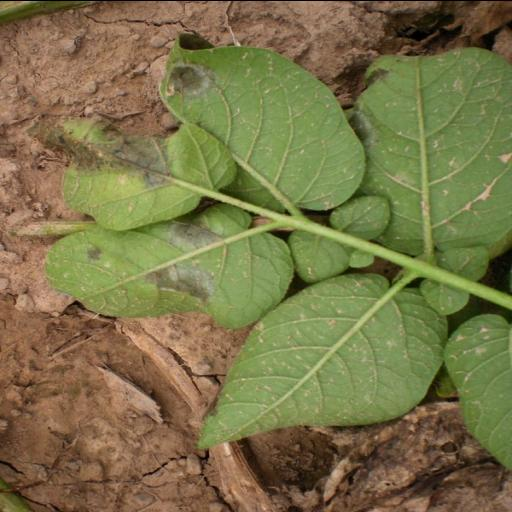disease_tomato: (154, 30, 372, 220), (41, 202, 304, 326), (54, 108, 239, 227)
